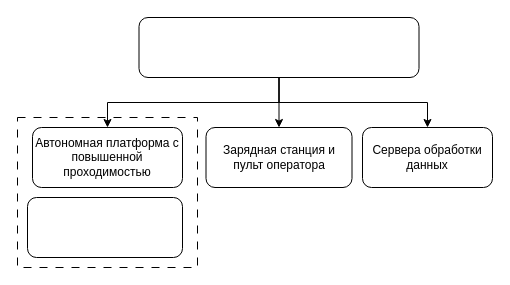
The diagram is 510 pixels wide and 285 high, and some of its shapes have lost their labels. The centre of each missing label's shape, as x and y in pixels:
БПЛА для облета лесных массивов: the point at 104,227
Система мониторинга и осмотра лесных массивов: the point at 278,47
